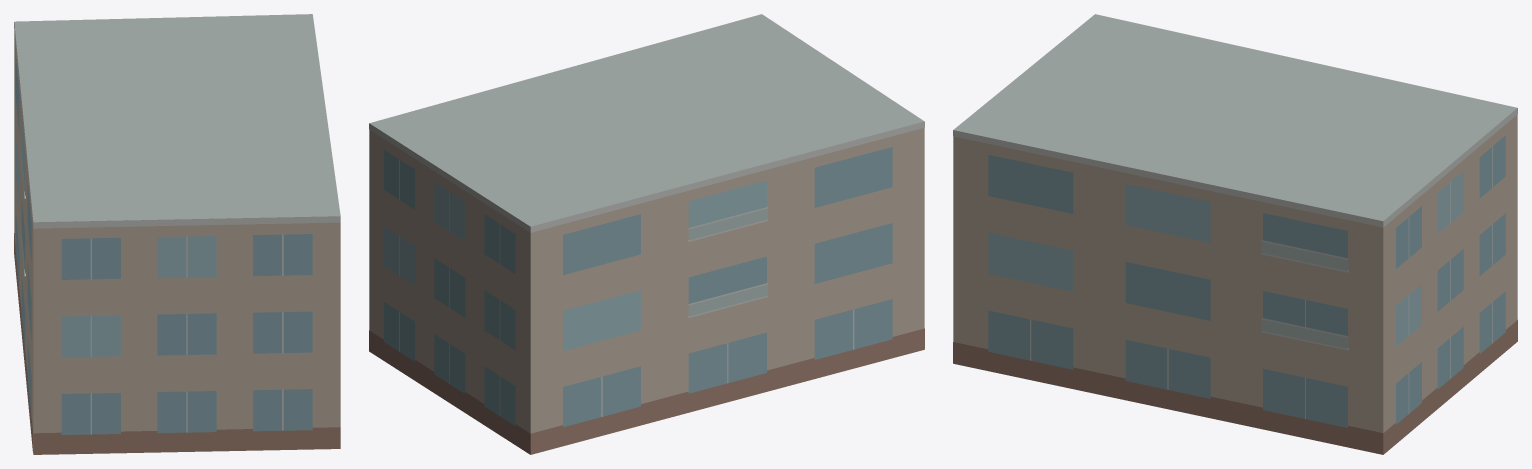
Rendered from survey-upis-32886159.glb.
3 views of the same model, side by side, from view 1: azimuth 30°, elevation 25°; view 2: azimuth 150°, elevation 25°; view 3: azimuth 270°, elevation 25° (orthographic). The views are drawn at different scales.
Parts seen in each view (by area): view 1: survey-upis-32886159.tmp; view 2: survey-upis-32886159.tmp; view 3: survey-upis-32886159.tmp.
Boxes of the visible parts, x1,y1,x2,y2 form: survey-upis-32886159.tmp: [14, 14, 340, 454]; survey-upis-32886159.tmp: [369, 14, 924, 454]; survey-upis-32886159.tmp: [953, 14, 1517, 454].
Bounding box in the file's own units: 17.13 × 9 × 19.72.
